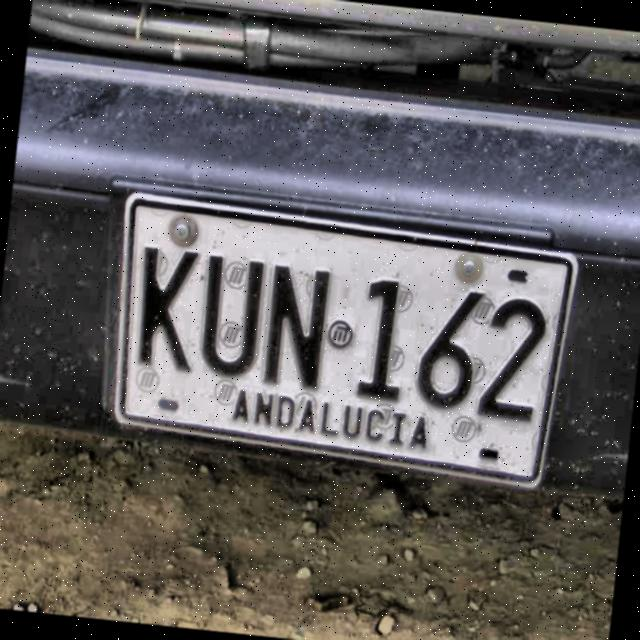plate: (114, 192, 579, 490)
